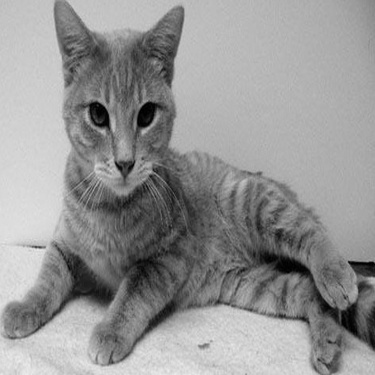cat: (1, 1, 359, 369)
